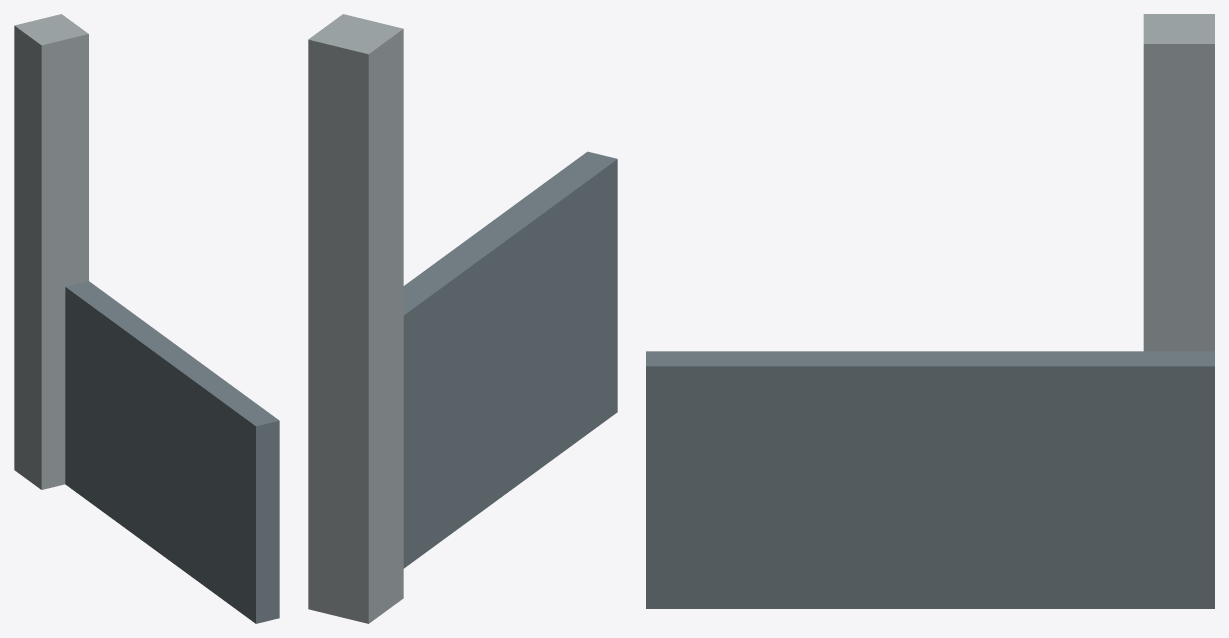
File: cell_80.obj
3 renders of one model, left to right at view 1: azimuth 30°, elevation 25°; view 2: azimuth 150°, elevation 25°; view 3: azimuth 270°, elevation 25°, orthographic. The views are drawn at different scales.
Size of the model in its own units: 0.1 by 0.9 by 0.8.
